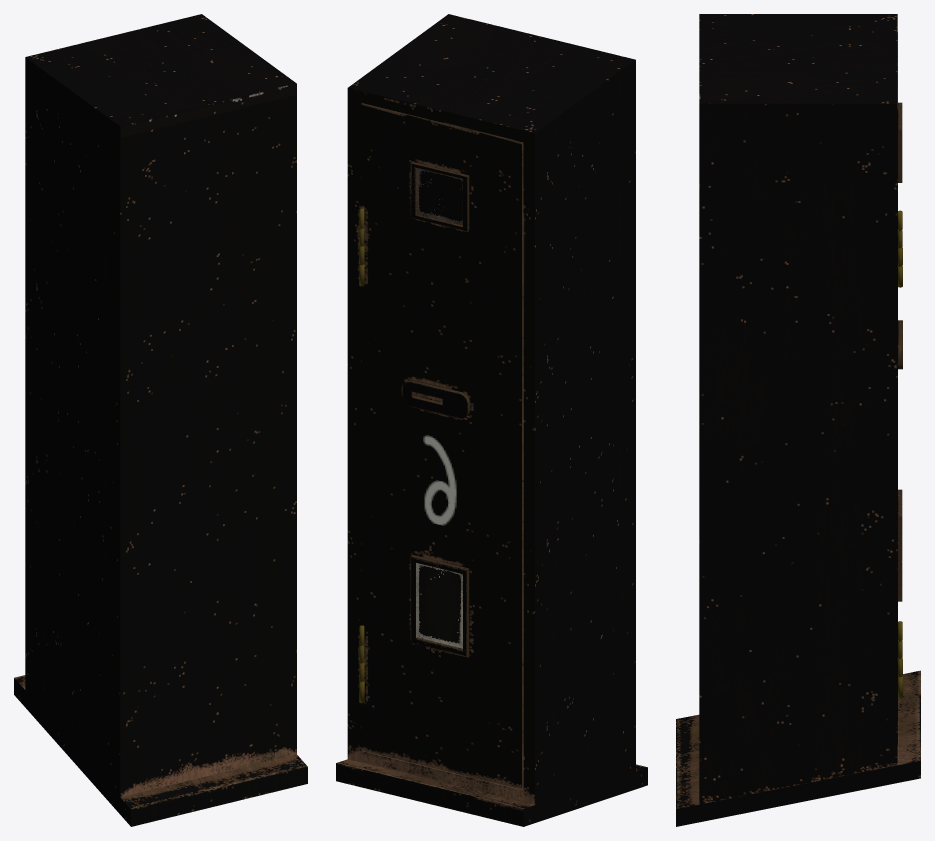
The model's file is taquillav02_FBX.FBX.
The picture shows the model from 3 angles, left to right: view 1: azimuth 30°, elevation 25°; view 2: azimuth 150°, elevation 25°; view 3: azimuth 270°, elevation 25°; orthographic projection. The views are drawn at different scales.
Parts seen in each view (by area): view 1: TaquillaCuerpo; view 2: TaquillaCuerpo, TaquillaPuerta; view 3: TaquillaCuerpo, TaquillaPuerta.
Part boxes in pixels (x1,y1,x2,y2): TaquillaCuerpo: (14, 14, 307, 826); TaquillaCuerpo: (336, 14, 647, 826); TaquillaPuerta: (359, 103, 523, 789); TaquillaCuerpo: (676, 14, 920, 826); TaquillaPuerta: (897, 32, 902, 746).
Size of the model in its own units: 58.47 by 219 by 67.07.
